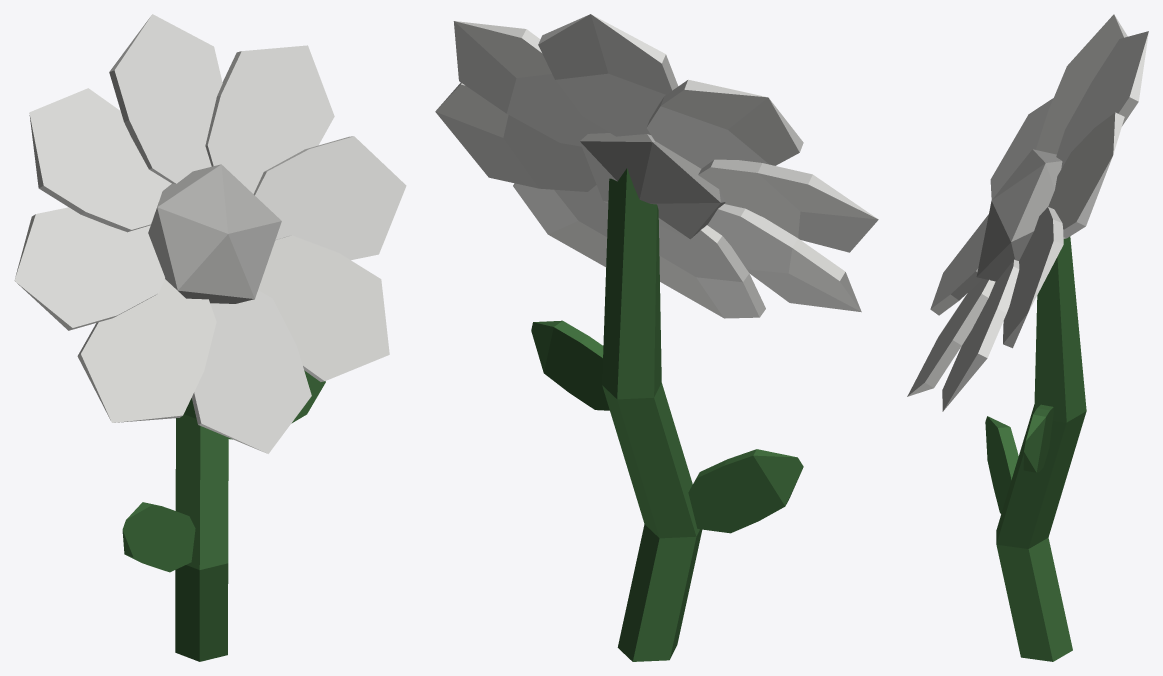
File: Flower_4_White.fbx
The picture shows the model from 3 angles, left to right: view 1: azimuth 30°, elevation 25°; view 2: azimuth 150°, elevation 25°; view 3: azimuth 270°, elevation 25°; orthographic projection. The views are drawn at different scales.
Visible parts, largest first — view 1: Flower_4_White_Part_1, Flower_4_White_Part_3, Flower_4_White_Part_2; view 2: Flower_4_White_Part_1, Flower_4_White_Part_3, Flower_4_White_Part_2; view 3: Flower_4_White_Part_1, Flower_4_White_Part_3, Flower_4_White_Part_2.
Boxes of the visible parts, <box> form: Flower_4_White_Part_1: <box>14,14,406,453</box>; Flower_4_White_Part_3: <box>122,370,325,661</box>; Flower_4_White_Part_2: <box>148,164,281,303</box>; Flower_4_White_Part_1: <box>435,14,878,318</box>; Flower_4_White_Part_3: <box>531,168,803,661</box>; Flower_4_White_Part_2: <box>579,133,725,239</box>; Flower_4_White_Part_1: <box>907,14,1148,411</box>; Flower_4_White_Part_3: <box>985,236,1086,661</box>; Flower_4_White_Part_2: <box>976,149,1062,281</box>.
Size of the model in its own units: 32.5 by 47.45 by 16.79.
